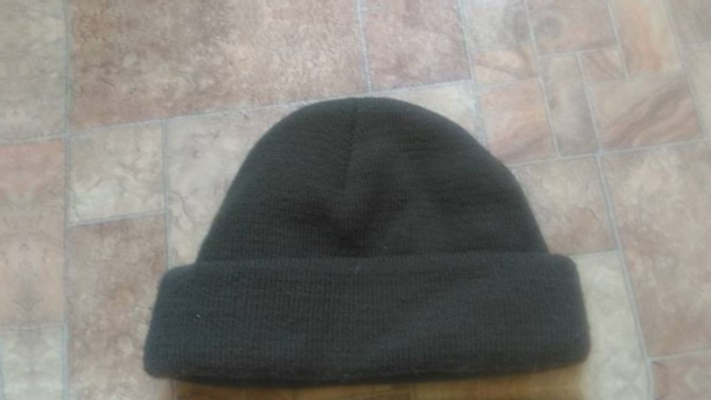Hat: (113, 79, 593, 400)
